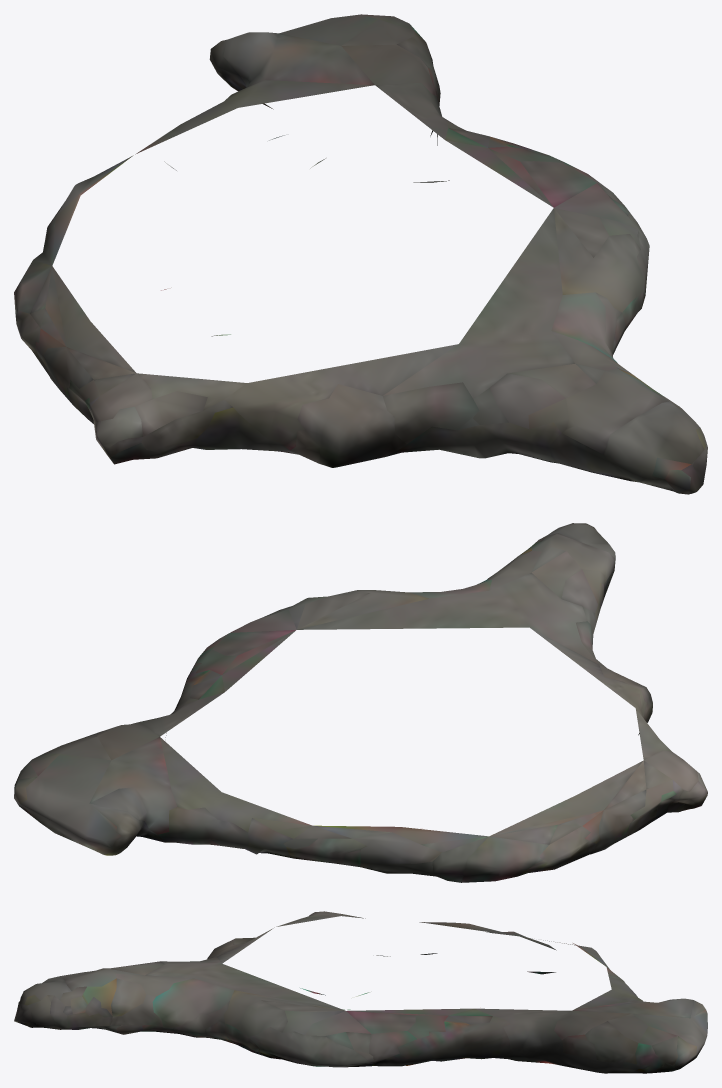
Rendered from hall.glb.
3 renders of one model, top to bottom at view 1: azimuth 30°, elevation 25°; view 2: azimuth 150°, elevation 25°; view 3: azimuth 270°, elevation 25°, orthographic. The views are drawn at different scales.
Bounding box in the file's own units: 0.5177 × 0.1153 × 0.8254.
1 material, 1 textured.
